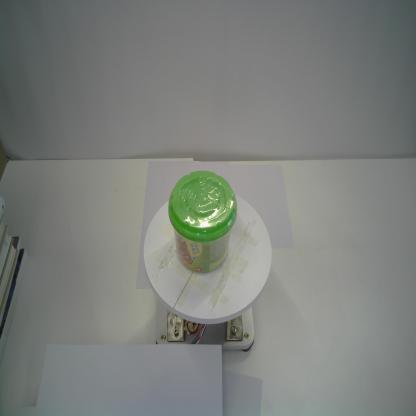Instant Drink: (167, 169, 238, 275)
